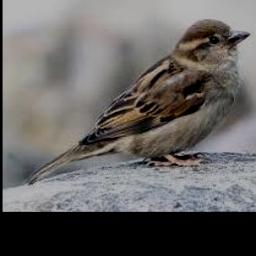Sparrow: (24, 19, 249, 185)
